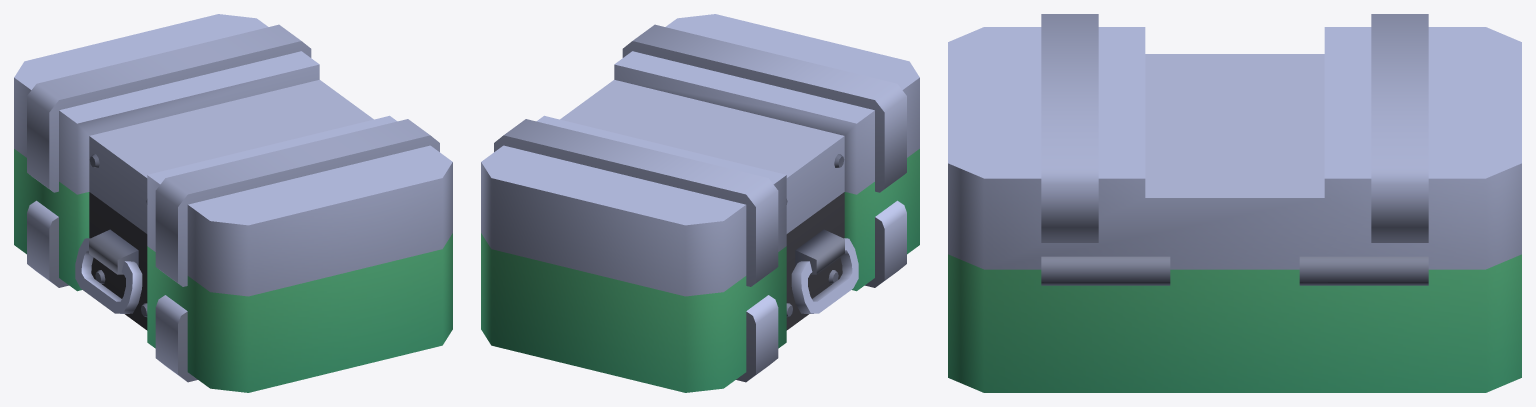
The model's file is shells_small.glb.
The picture shows the model from 3 angles, left to right: view 1: azimuth 30°, elevation 25°; view 2: azimuth 150°, elevation 25°; view 3: azimuth 270°, elevation 25°; orthographic projection. The views are drawn at different scales.
Parts seen in each view (by area): view 1: lid, crate-small; view 2: lid, crate-small; view 3: lid, crate-small.
Boxes of the visible parts, box(x1,y1,x2,y2) form: lid: box(14, 14, 452, 296); crate-small: box(14, 149, 452, 392); lid: box(481, 14, 919, 296); crate-small: box(481, 149, 919, 392); lid: box(948, 14, 1521, 269); crate-small: box(948, 254, 1521, 392).
Bounding box in the file's own units: 0.5495 × 0.37 × 0.8.
1 material, 1 textured.
